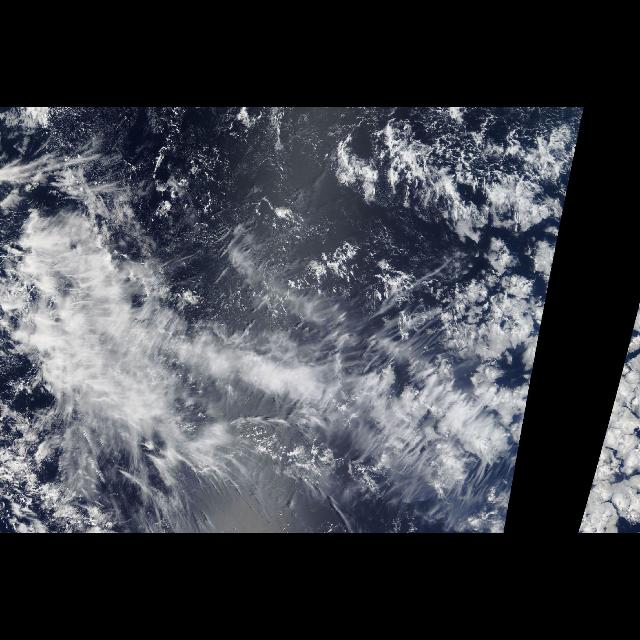Gravel: (284, 110, 572, 340)
